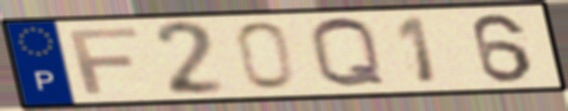0: (231, 19, 303, 94)
1: (394, 14, 439, 88)
2: (152, 16, 230, 102)
6: (470, 11, 536, 85)
F: (64, 26, 141, 97)
Q: (305, 15, 391, 92)
